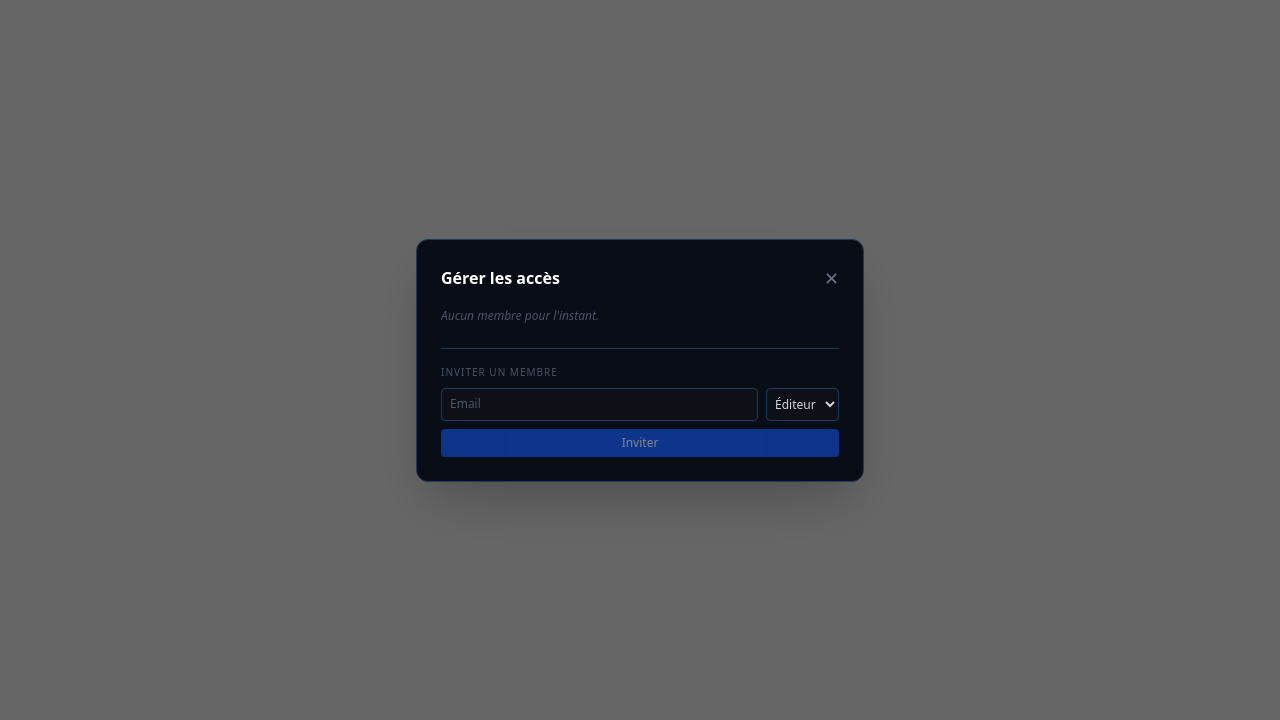
Test case: MembersModal › shows error message when inviteMember fails
Type "bob@example.com" into the field with placeholder "Email". click: (600,404)
box: [441,388,758,420]
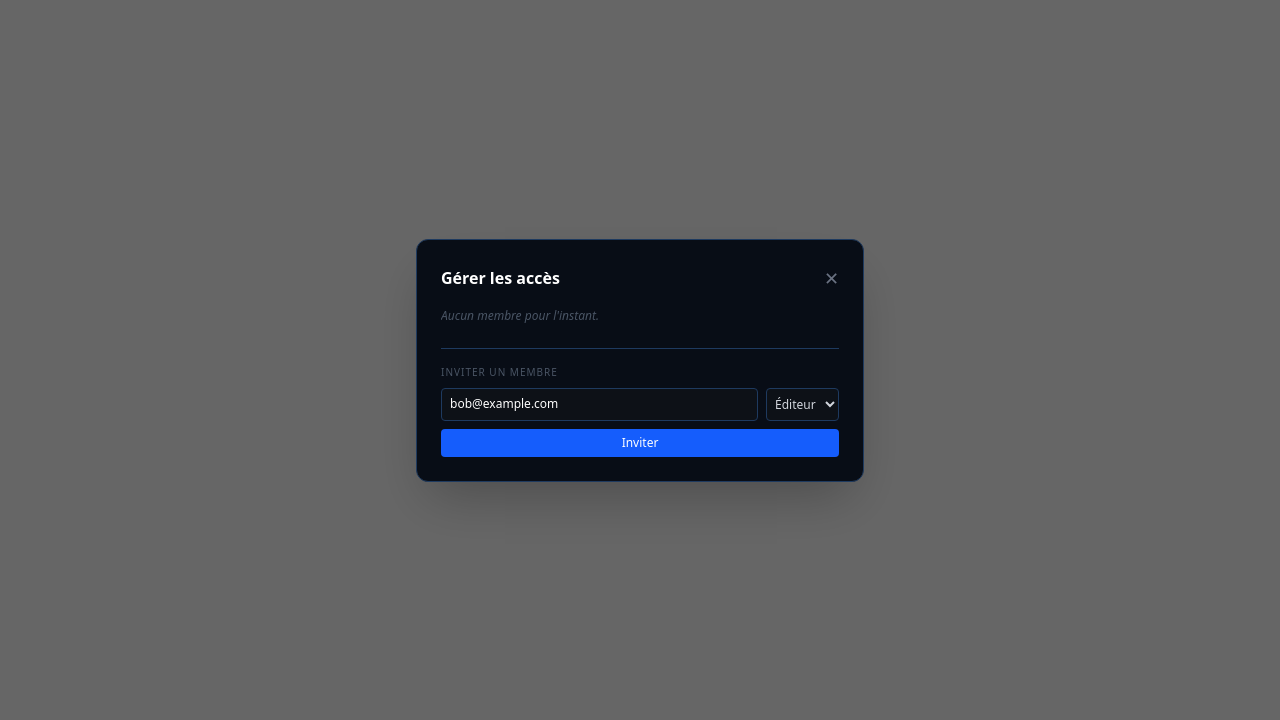
Click the button "Inviter". click: (640,442)
box: [441,428,839,456]
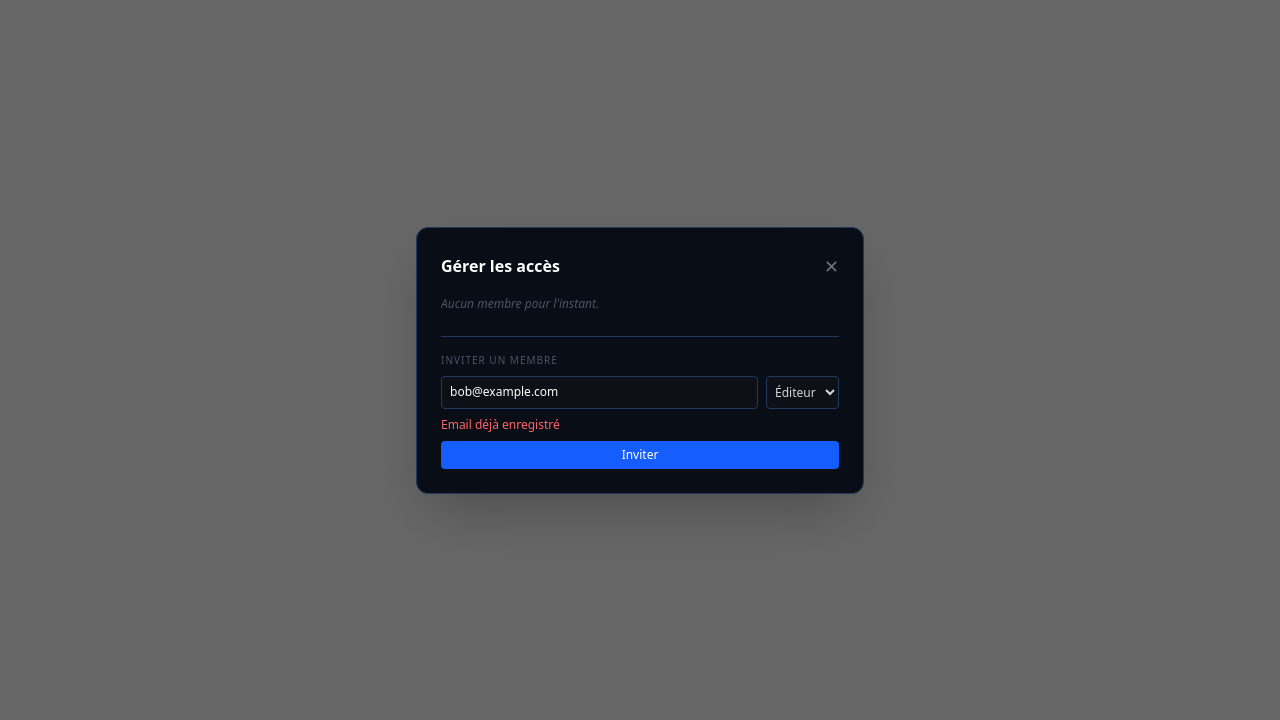
Expected: the text "Email déjà enregistré" is shown, [441,416,560,432]
